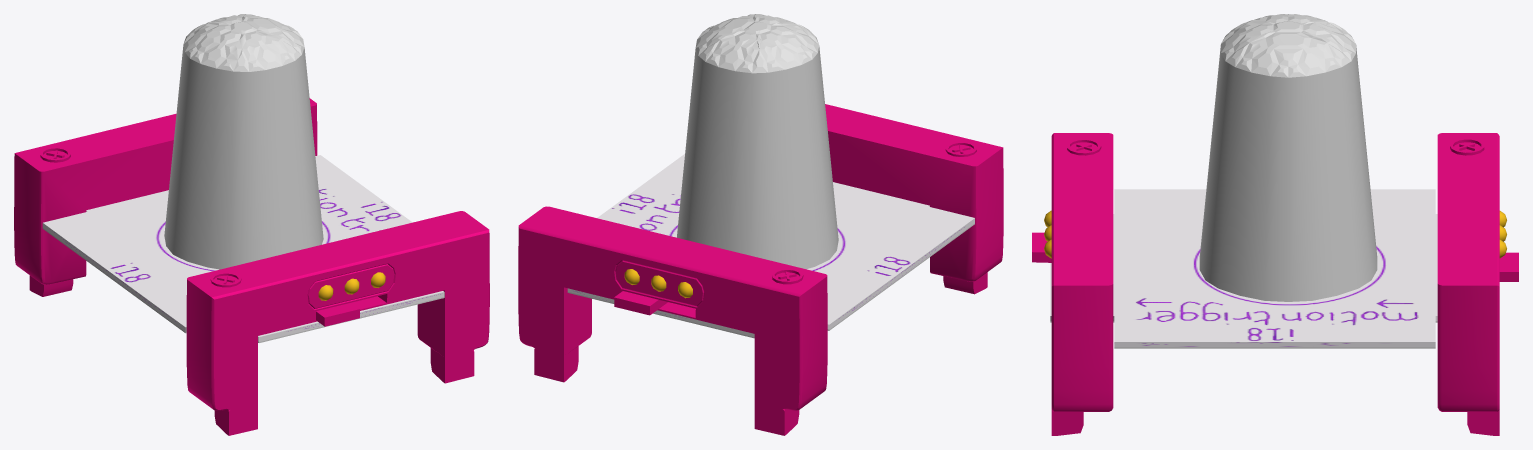
File: littlebit i18 motion trigger.fbx
3 views of the same model, side by side, from view 1: azimuth 30°, elevation 25°; view 2: azimuth 150°, elevation 25°; view 3: azimuth 270°, elevation 25° (orthographic). The views are drawn at different scales.
Visible parts, largest first — view 1: Cylinder001, Line001, Line002, Box001, SShape001; view 2: Line002, Cylinder001, Line001, Box001, SShape001; view 3: Cylinder001, Box001, Line002, Line001, SShape001.
Boxes of the visible parts, bbox=[...] form: Cylinder001: bbox=[164, 14, 323, 269]; Line001: bbox=[186, 211, 489, 435]; Line002: bbox=[14, 98, 317, 296]; Box001: bbox=[42, 155, 444, 341]; SShape001: bbox=[42, 228, 444, 342]; Line002: bbox=[518, 206, 827, 435]; Cylinder001: bbox=[677, 14, 838, 269]; Line001: bbox=[825, 104, 1003, 294]; Box001: bbox=[567, 154, 974, 337]; SShape001: bbox=[567, 223, 974, 338]; Cylinder001: bbox=[1199, 14, 1377, 301]; Box001: bbox=[1050, 189, 1437, 347]; Line002: bbox=[1437, 133, 1518, 435]; Line001: bbox=[1032, 133, 1113, 435]; SShape001: bbox=[1050, 321, 1437, 348].
Bounding box in the file's own units: 26.28 × 35.33 × 27.34.
